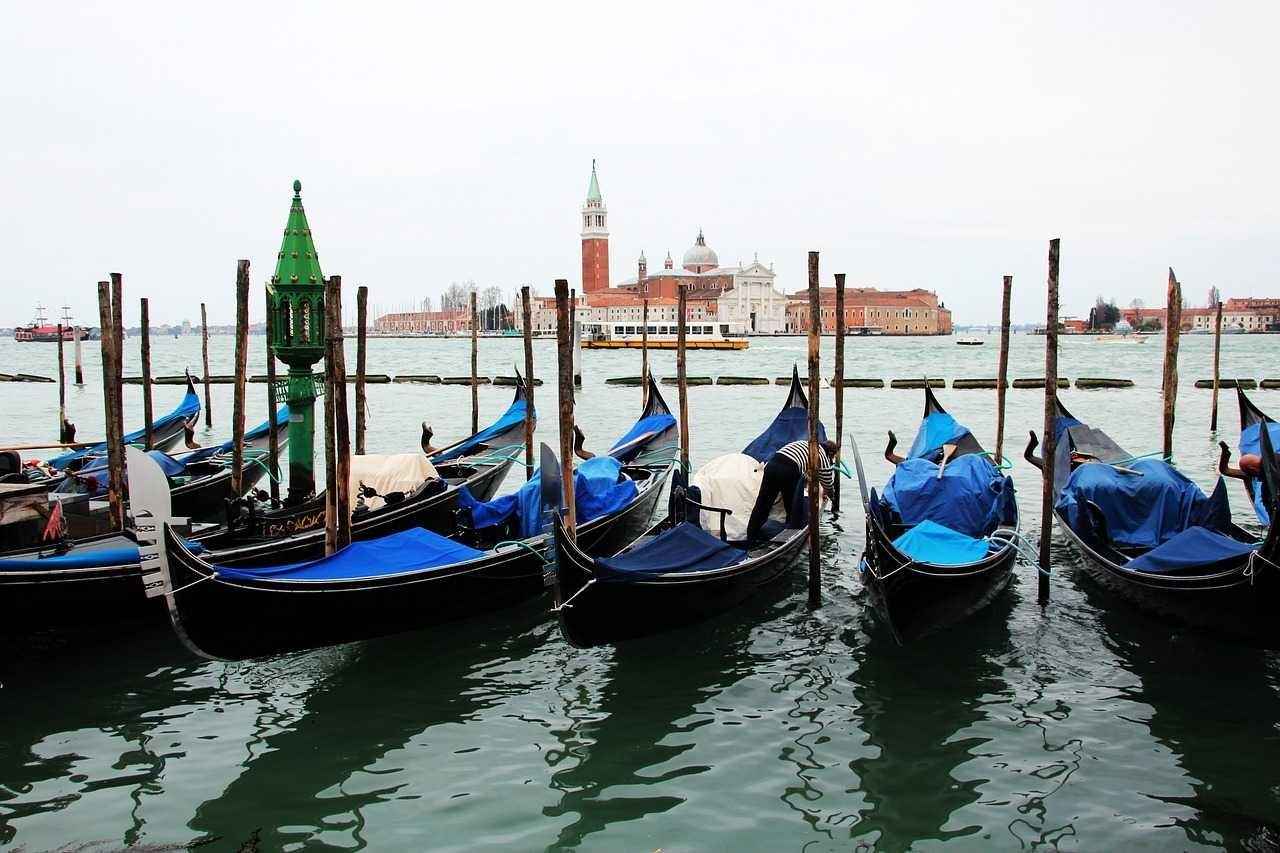kayak: (160, 375, 678, 661), (154, 514, 555, 664), (551, 428, 817, 648), (1038, 391, 1279, 630), (1, 412, 283, 615), (858, 392, 1021, 649), (1, 369, 202, 546), (742, 436, 838, 547), (419, 389, 529, 483), (581, 320, 750, 351), (14, 307, 91, 343), (956, 338, 984, 345)
